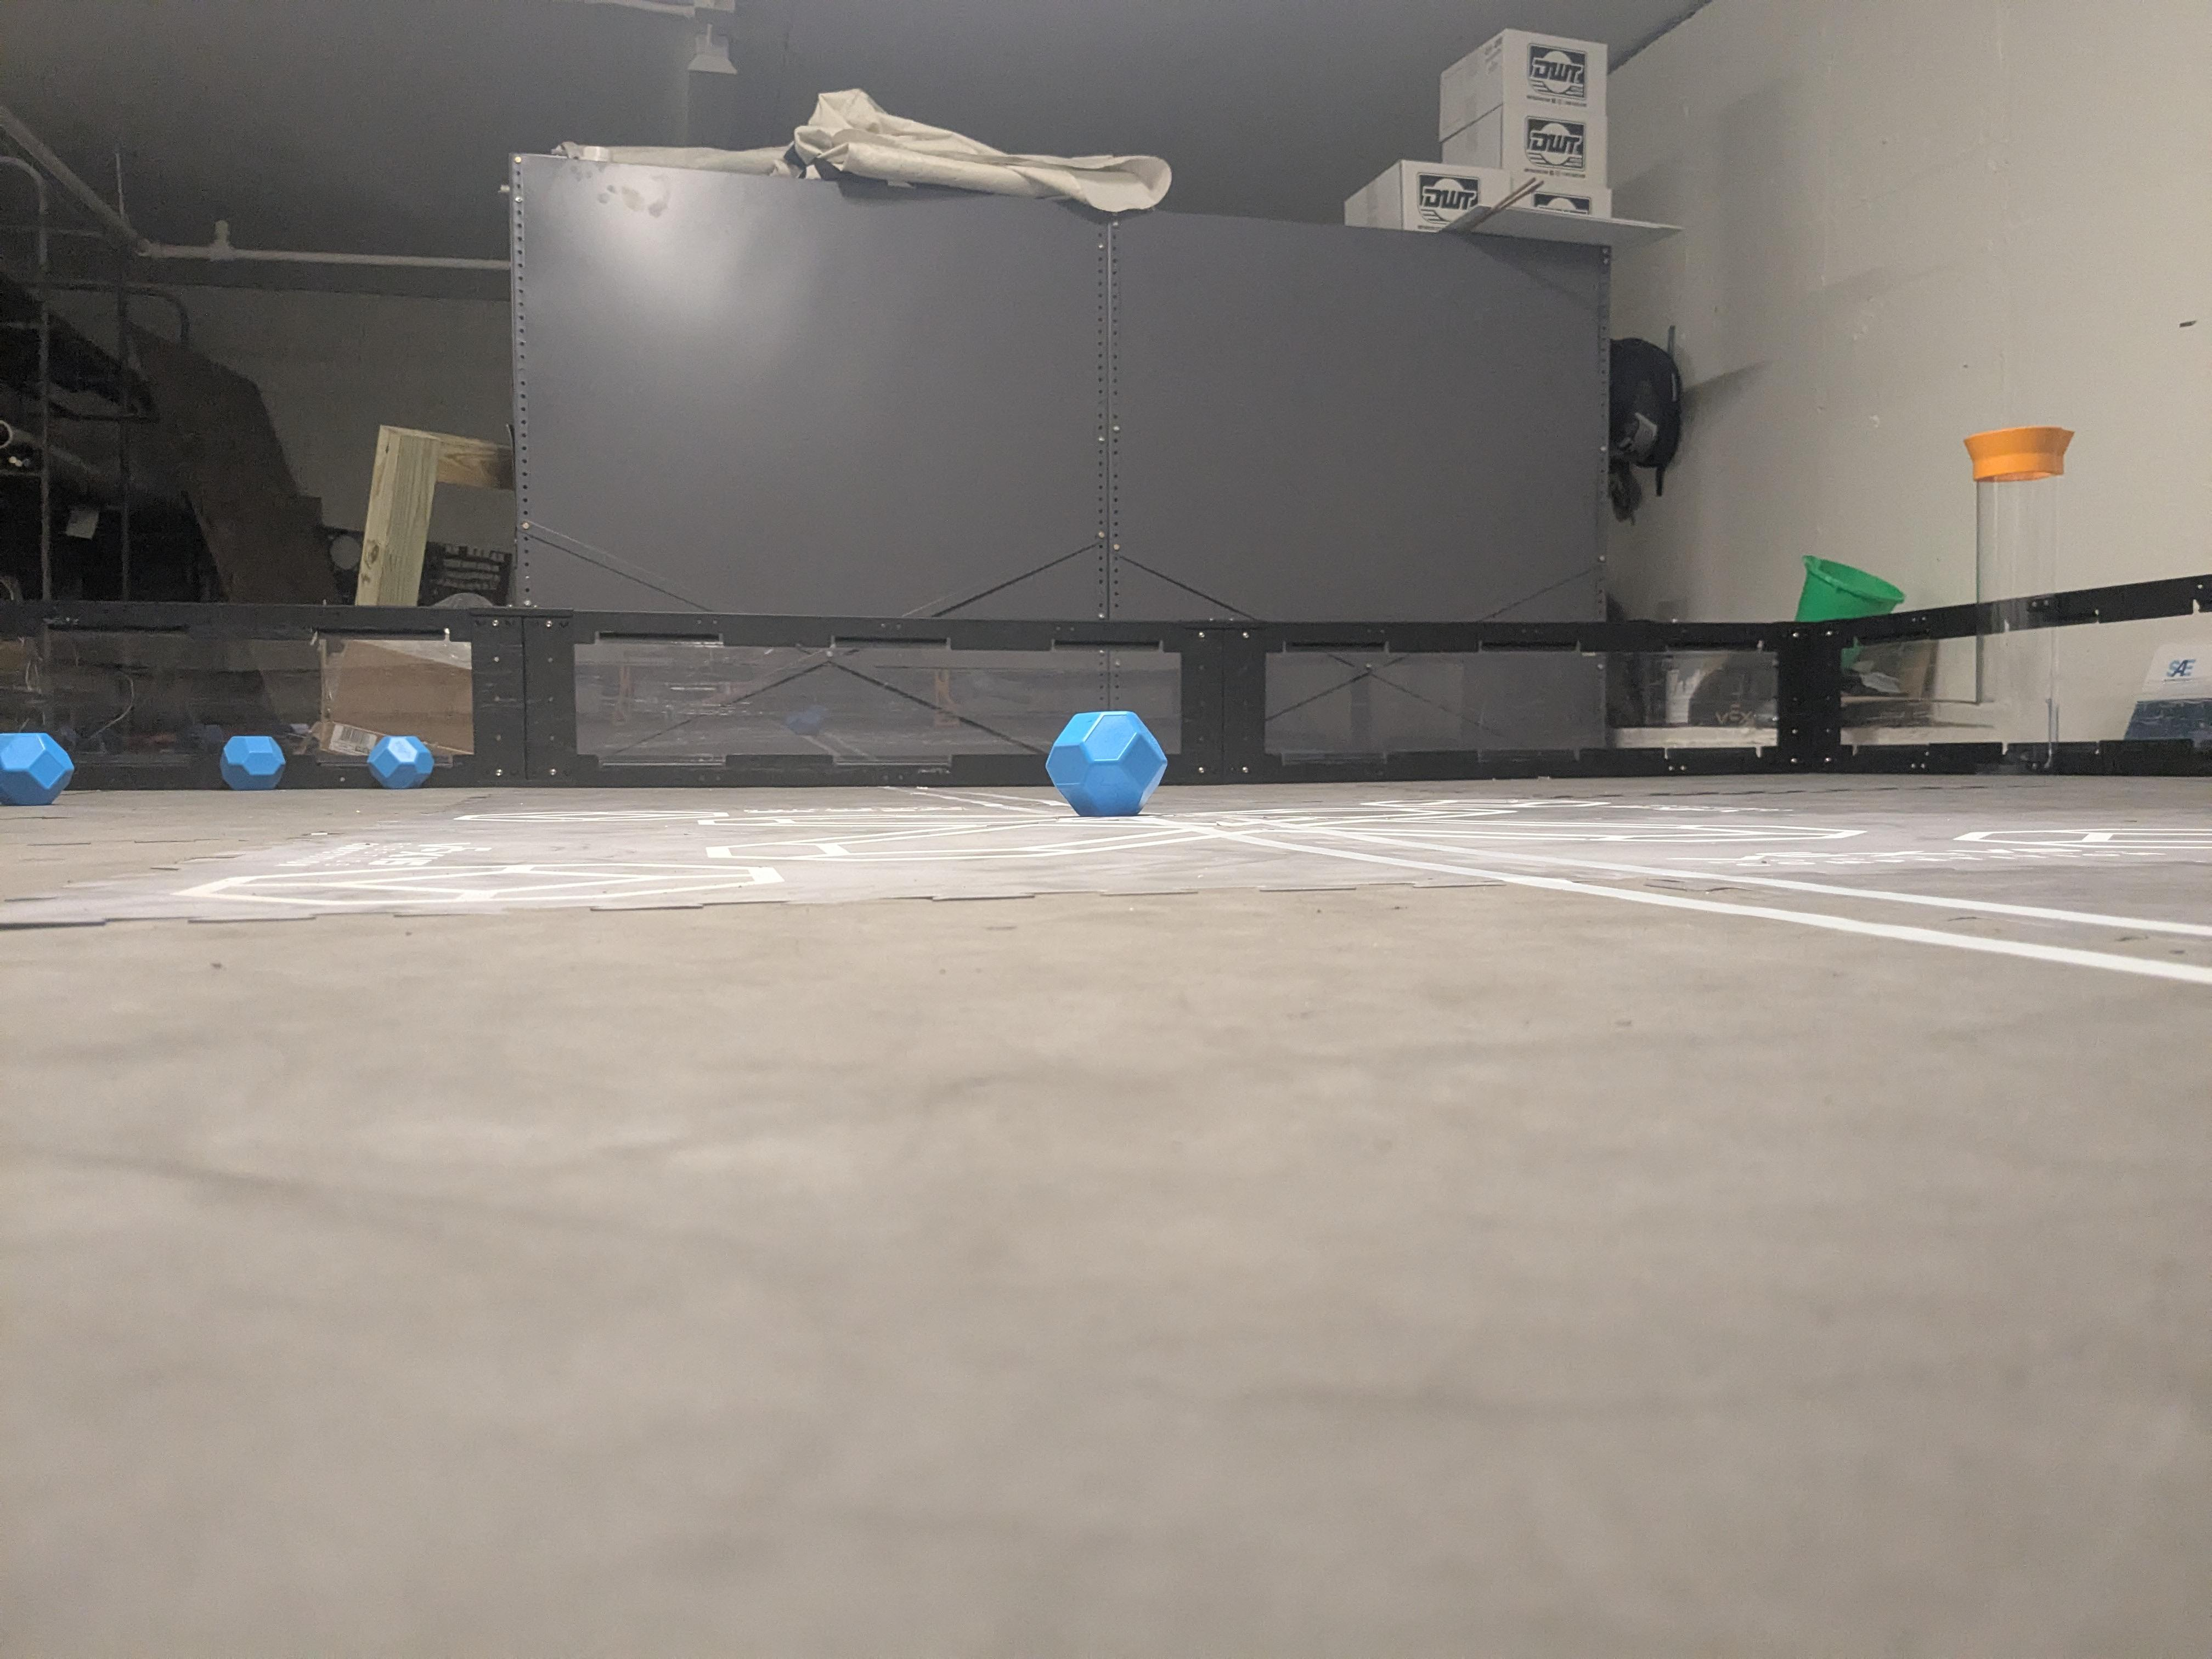Vex-Pieces-BLUE: (1047, 713, 1169, 814), (3, 735, 70, 803), (366, 735, 434, 789), (221, 735, 286, 789)
